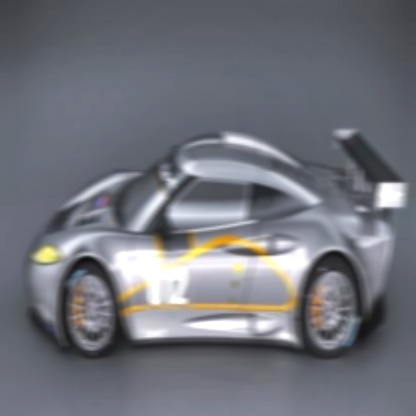Vehicle: (25, 84, 407, 361)
